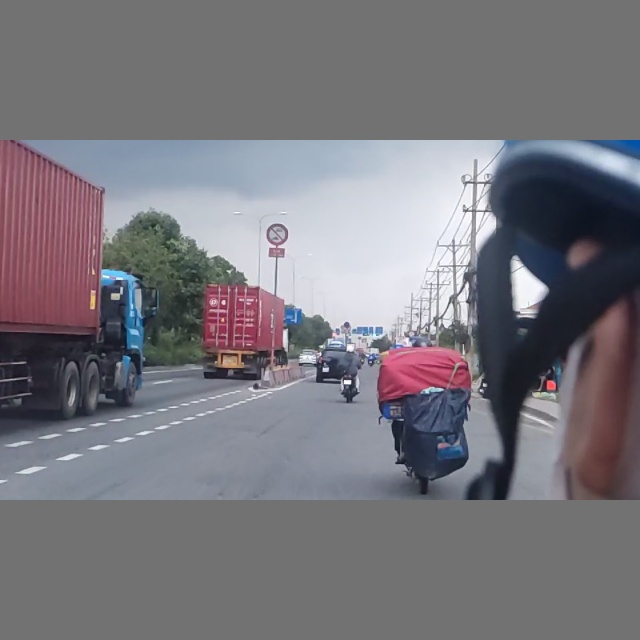P.111: (267, 223, 289, 246)
